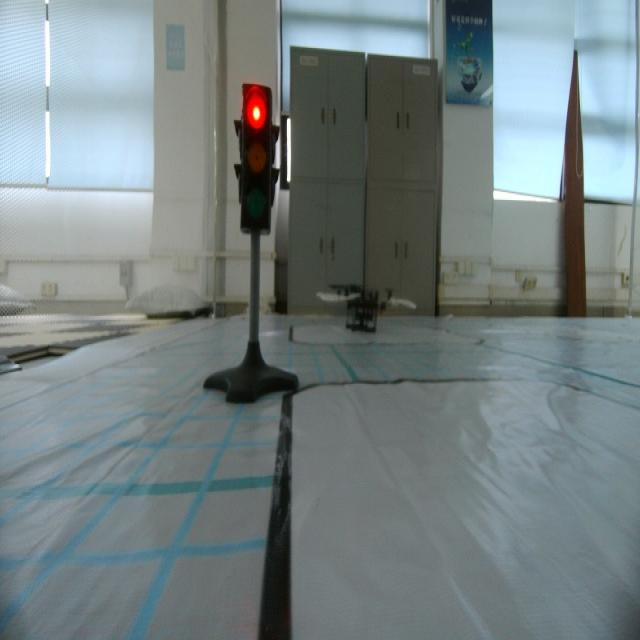red: (236, 75, 281, 244)
